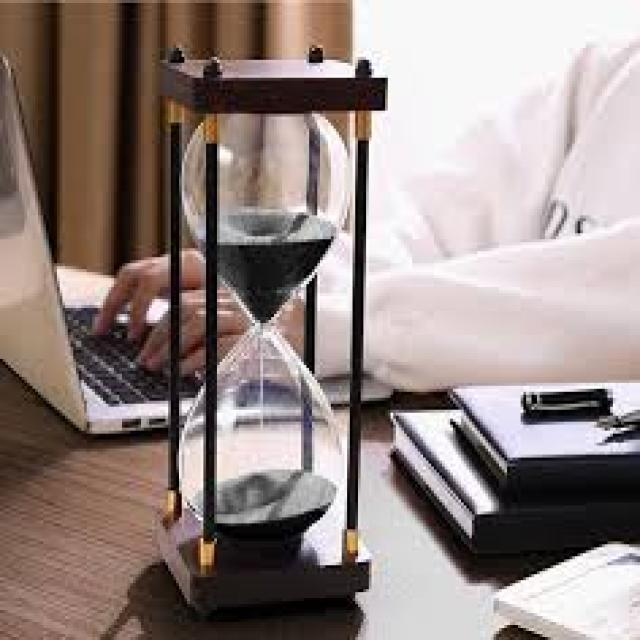clock: (142, 39, 400, 610)
